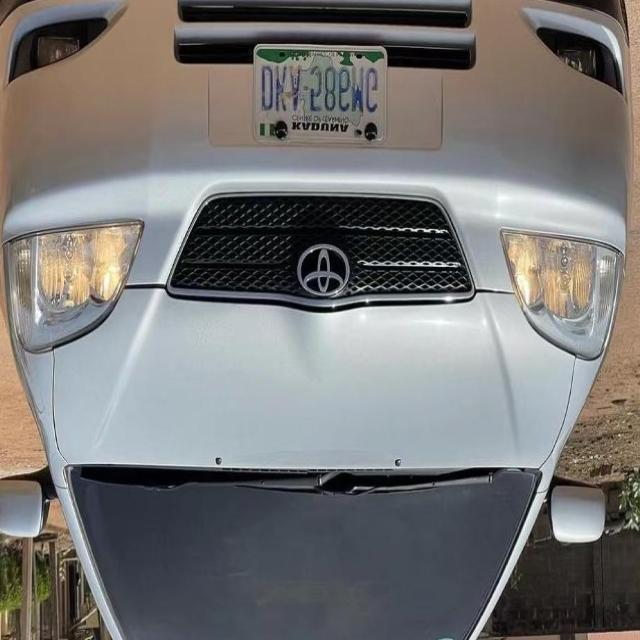Nigerian License Plate - vdataset benjamin-daria: (249, 35, 392, 151)
